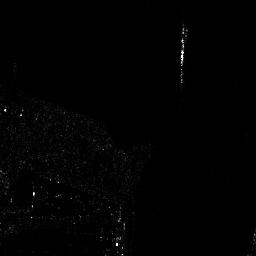ship: (178, 26, 187, 84)
